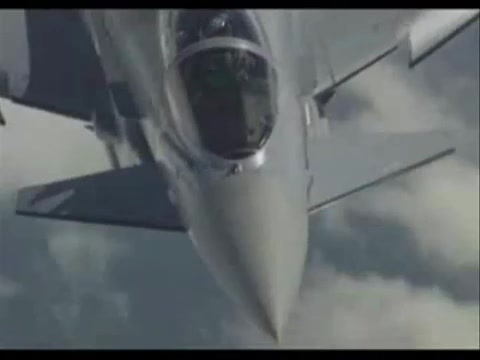aeroplane: (1, 10, 480, 350)
